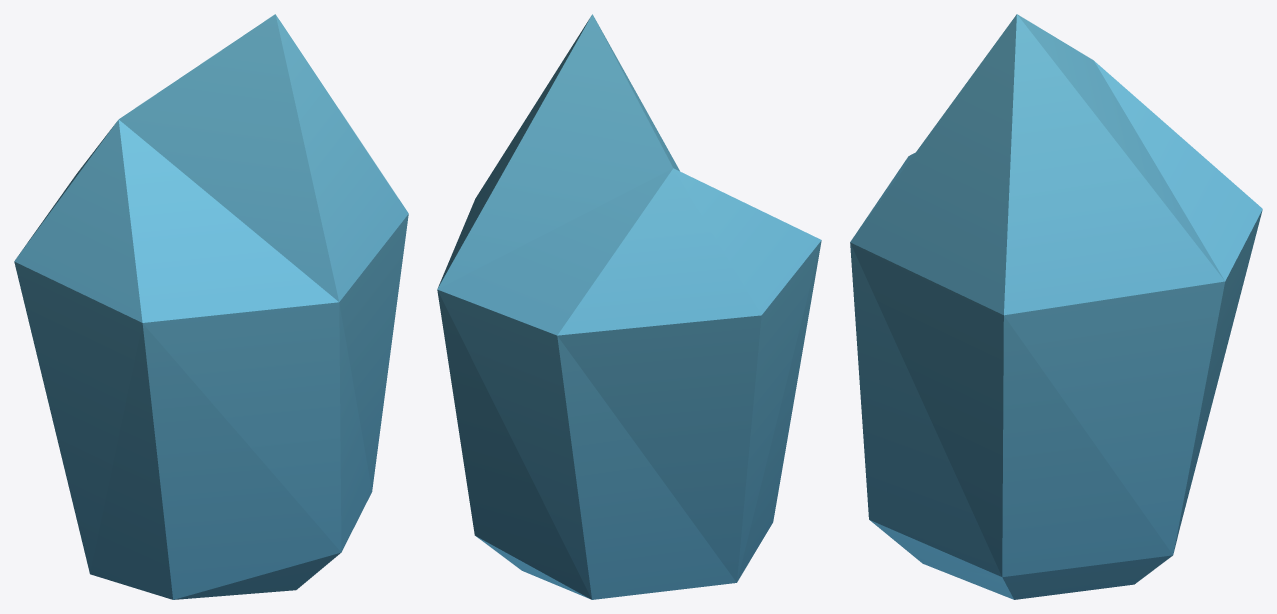
Rendered from Crystal_07.fbx.
3 views of the same model, side by side, from view 1: azimuth 30°, elevation 25°; view 2: azimuth 150°, elevation 25°; view 3: azimuth 270°, elevation 25° (orthographic). The views are drawn at different scales.
Parts seen in each view (by area): view 1: Crystal_07; view 2: Crystal_07; view 3: Crystal_07.
Boxes of the visible parts, x1,y1,x2,y2 form: Crystal_07: (14,14,408,599); Crystal_07: (437,14,821,599); Crystal_07: (850,14,1262,599).
Bounding box in the file's own units: 0.3478 × 0.5177 × 0.3446.
